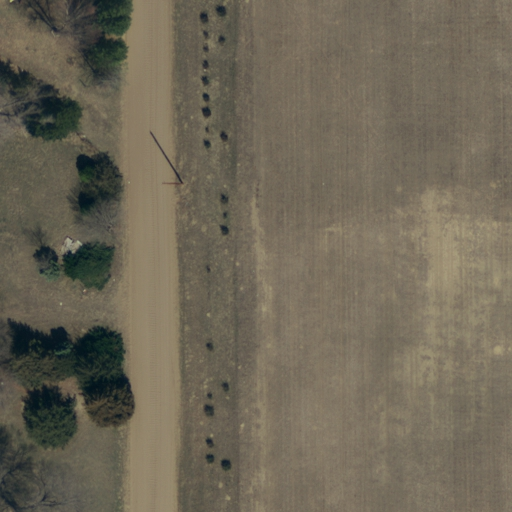DT: (157, 174, 189, 195)
